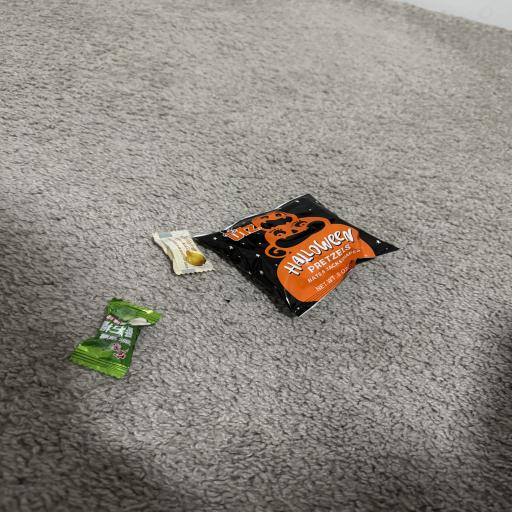chocolate: (195, 195, 397, 316), (70, 299, 161, 377), (153, 231, 213, 274)
